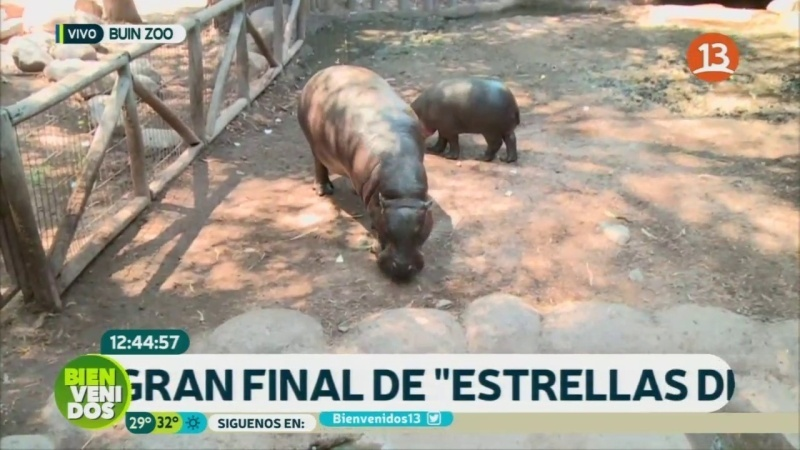hipopotamo: (278, 53, 438, 292), (407, 64, 529, 165)
